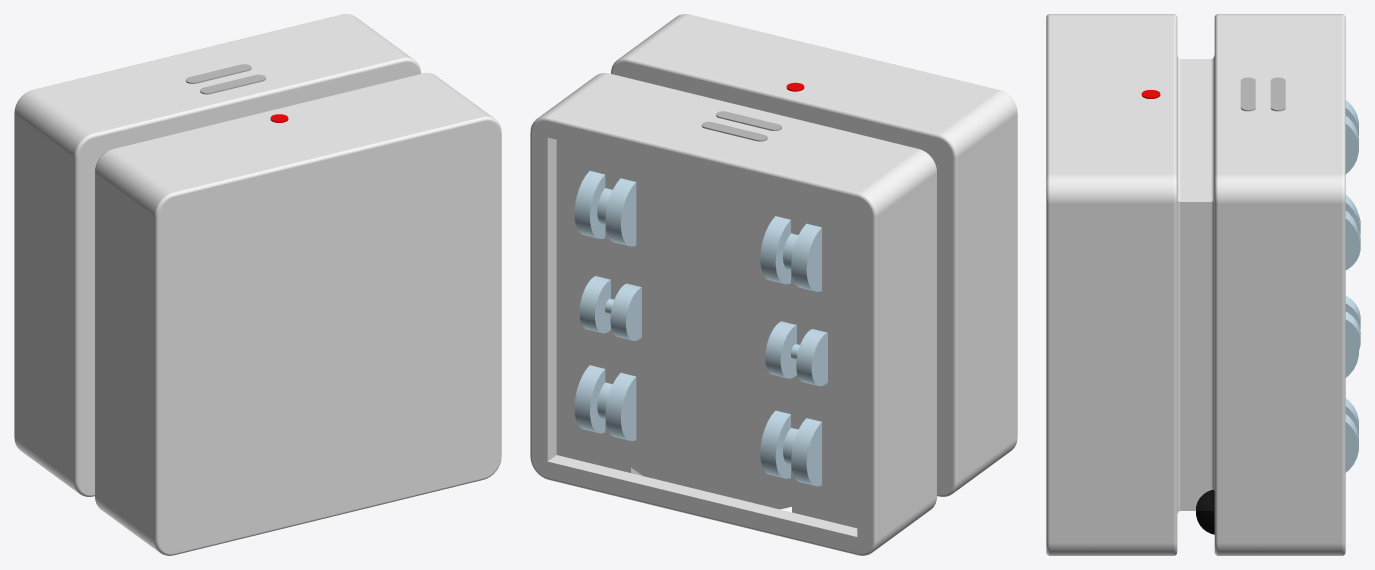
File: robot1.glb
3 renders of one model, left to right at view 1: azimuth 30°, elevation 25°; view 2: azimuth 150°, elevation 25°; view 3: azimuth 270°, elevation 25°, orthographic. The views are drawn at different scales.
Parts seen in each view (by area): view 1: Body, Back gray bars; view 2: Body, Castor wheel, Castor wheel.003, Castor wheel.001, Castor wheel.002, Driver wheel.001, Driver wheel, Back gray bars, Front panel; view 3: Body, Back gray bars, Driver wheel, Castor wheel, Castor wheel.001, Castor wheel.003, LiDAR 1.
Part boxes in pixels (x1,y1,x2,y2): Body: [14, 14, 501, 555]; Back gray bars: [185, 64, 265, 94]; Body: [530, 14, 1017, 555]; Castor wheel: [574, 365, 636, 440]; Castor wheel.003: [574, 171, 636, 246]; Castor wheel.001: [760, 216, 821, 291]; Castor wheel.002: [760, 410, 821, 486]; Driver wheel.001: [765, 321, 827, 386]; Driver wheel: [579, 276, 641, 340]; Back gray bars: [701, 111, 781, 141]; Front panel: [631, 466, 791, 509]; Body: [1046, 14, 1345, 555]; Back gray bars: [1240, 77, 1285, 111]; Driver wheel: [1345, 296, 1360, 364]; Castor wheel: [1345, 398, 1358, 472]; Castor wheel.001: [1345, 100, 1358, 173]; Castor wheel.003: [1345, 195, 1358, 268]; LiDAR 1: [1196, 490, 1214, 534].
Size of the model in its own units: 0.56 by 0.5625 by 0.4202.
